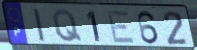1: (86, 10, 102, 43)
2: (162, 10, 190, 46)
6: (136, 9, 160, 46)
E: (106, 10, 137, 45)
I: (32, 8, 48, 44)
Q: (51, 8, 84, 43)
